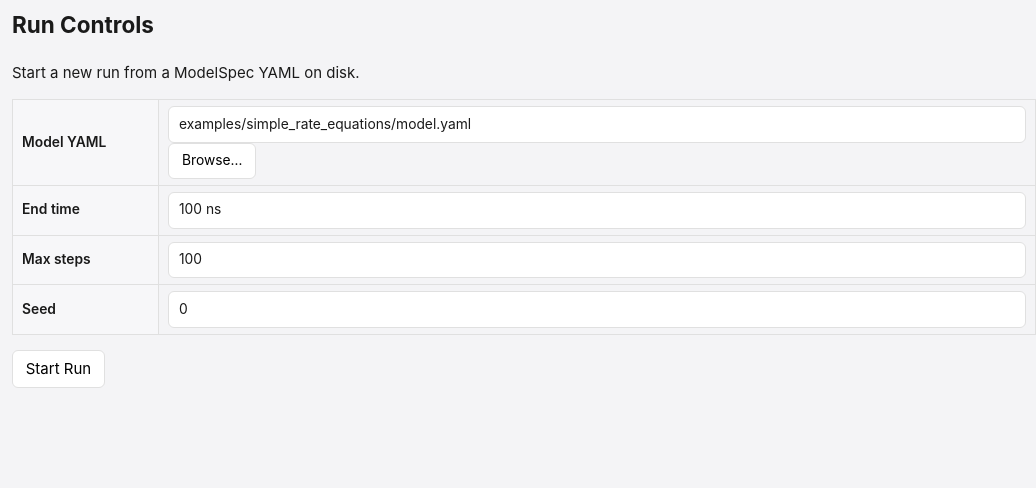
it: RunControls › posts to /api/runs when Start is clicked
The width and height of the screenshot is (1036, 488).
Click the button "Start Run".
click(58, 369)  # box [12,350,105,388]
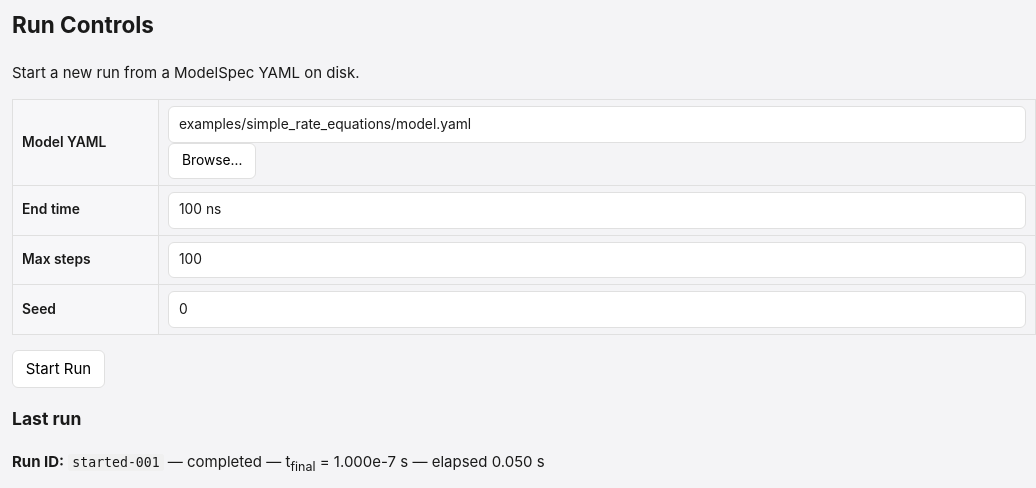
Expected: the text "started-001" is shown, [68,454,164,471]
